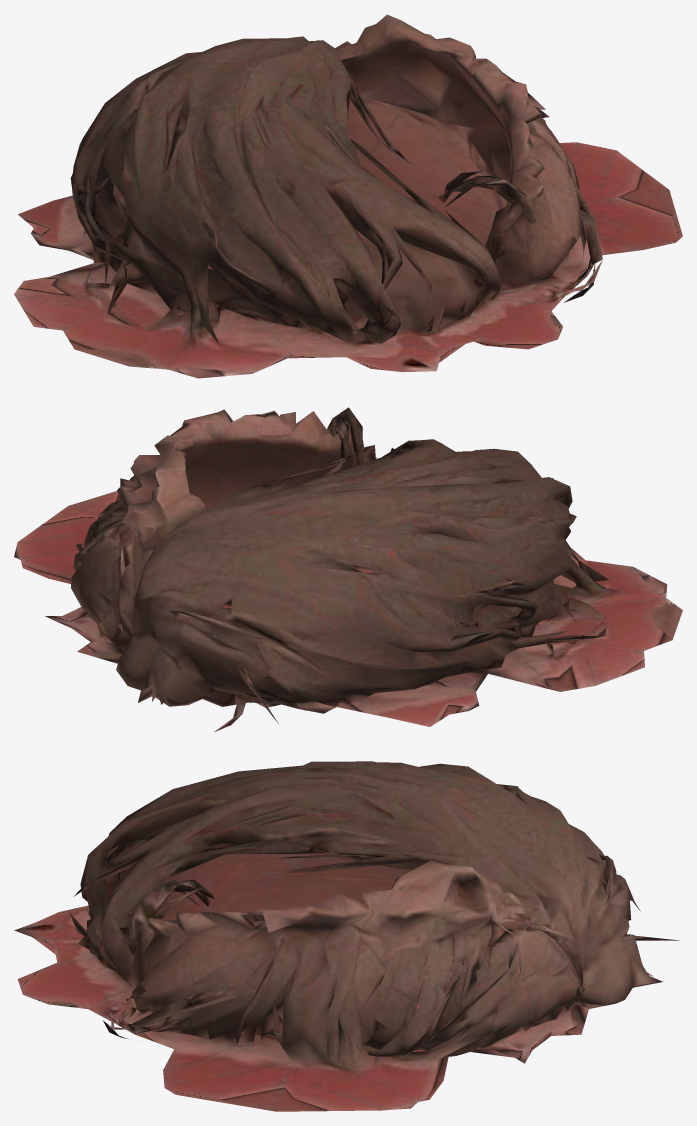
Rendered from scalp.glb.
3 renders of one model, top to bottom at view 1: azimuth 30°, elevation 25°; view 2: azimuth 150°, elevation 25°; view 3: azimuth 270°, elevation 25°, orthographic. The views are drawn at different scales.
Visible parts, largest first — view 1: Mesh_0; view 2: Mesh_0; view 3: Mesh_0.
Boxes of the visible parts, x1,y1,x2,y2 form: Mesh_0: [14, 14, 682, 378]; Mesh_0: [14, 407, 682, 732]; Mesh_0: [14, 761, 679, 1111].
Bounding box in the file's own units: 1.87 × 0.4687 × 1.73.
Materials: 1 (1 with a texture image).
